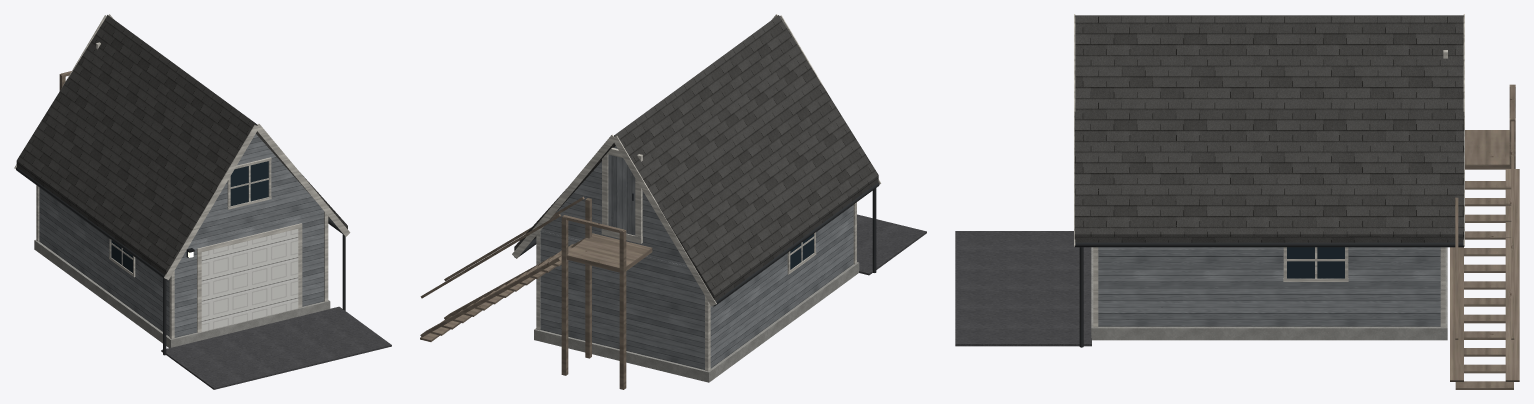
File: loft-garage.glb
3 renders of one model, left to right at view 1: azimuth 30°, elevation 25°; view 2: azimuth 150°, elevation 25°; view 3: azimuth 270°, elevation 25°, orthographic. The views are drawn at different scales.
Visible parts, largest first — view 1: Loft_Garage; view 2: Loft_Garage; view 3: Loft_Garage.
Boxes of the visible parts, x1=… form: Loft_Garage: x1=14, y1=14, x2=391, y2=389; Loft_Garage: x1=420, y1=14, x2=926, y2=389; Loft_Garage: x1=955, y1=14, x2=1519, y2=389.
Size of the model in its own units: 6.49 by 5.2 by 9.7.
Materials: 12 (7 with a texture image).
